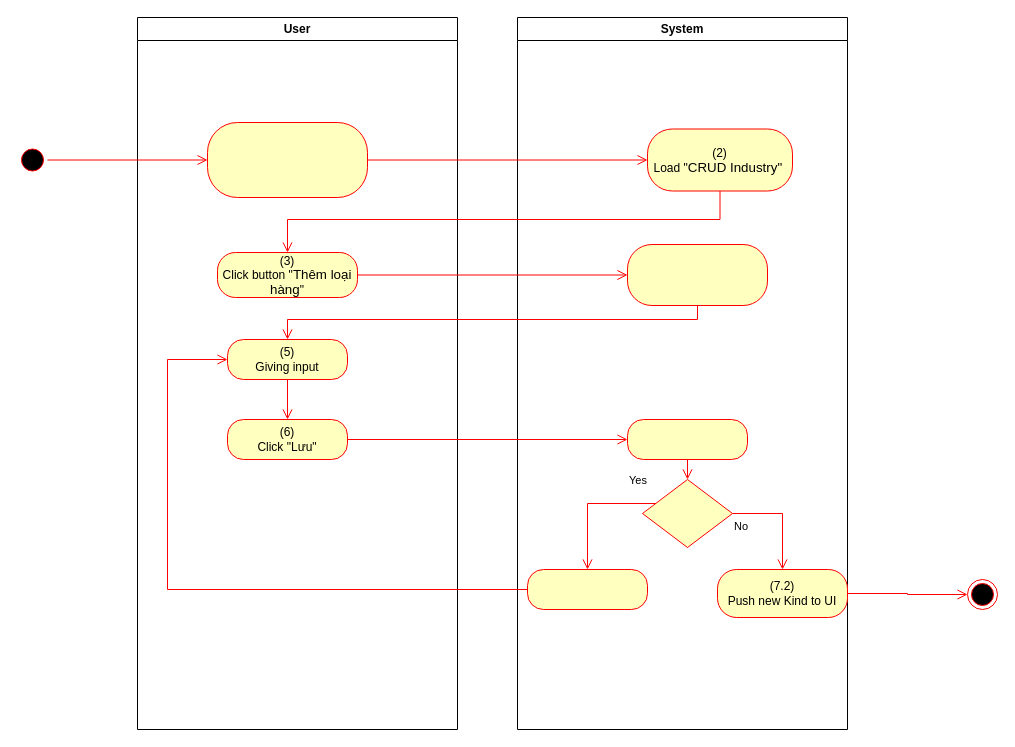
The diagram is 1015 pixels wide and 747 high, and some of its shapes have lost their labels. The centre of each missing label's shape, as x and y in pixels:
(1) On " List Industry " Click item Accounting Profession: (x=287, y=160)
(4) Load " CRUD Kind ": (x=697, y=275)
(7) Validate: (x=687, y=439)
(7.1) Show MSG: (x=587, y=589)
